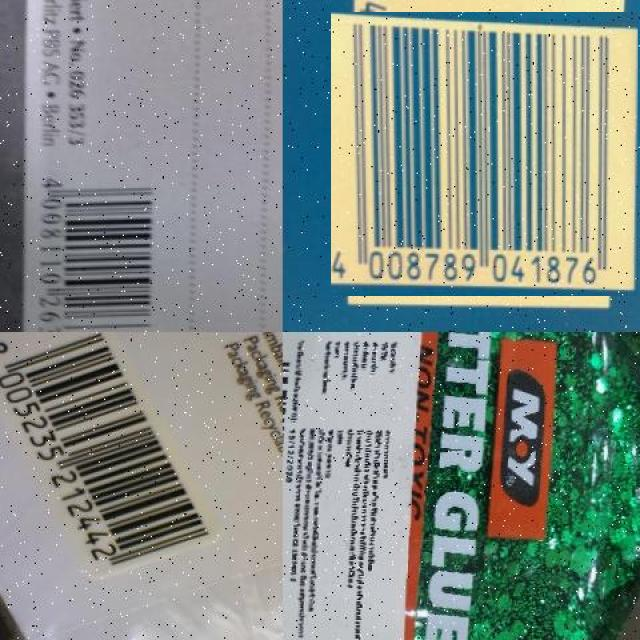Barcode: (337, 6, 632, 302), (0, 332, 235, 577), (27, 165, 173, 332), (283, 351, 300, 637)
